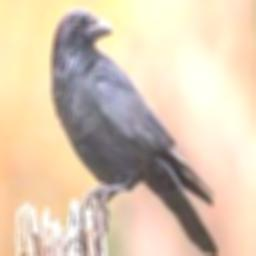Crow: (52, 9, 220, 256)
